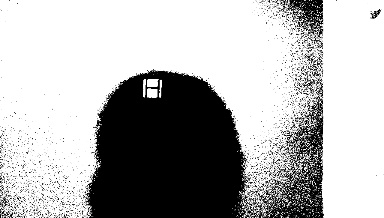H: (142, 78, 161, 97)
